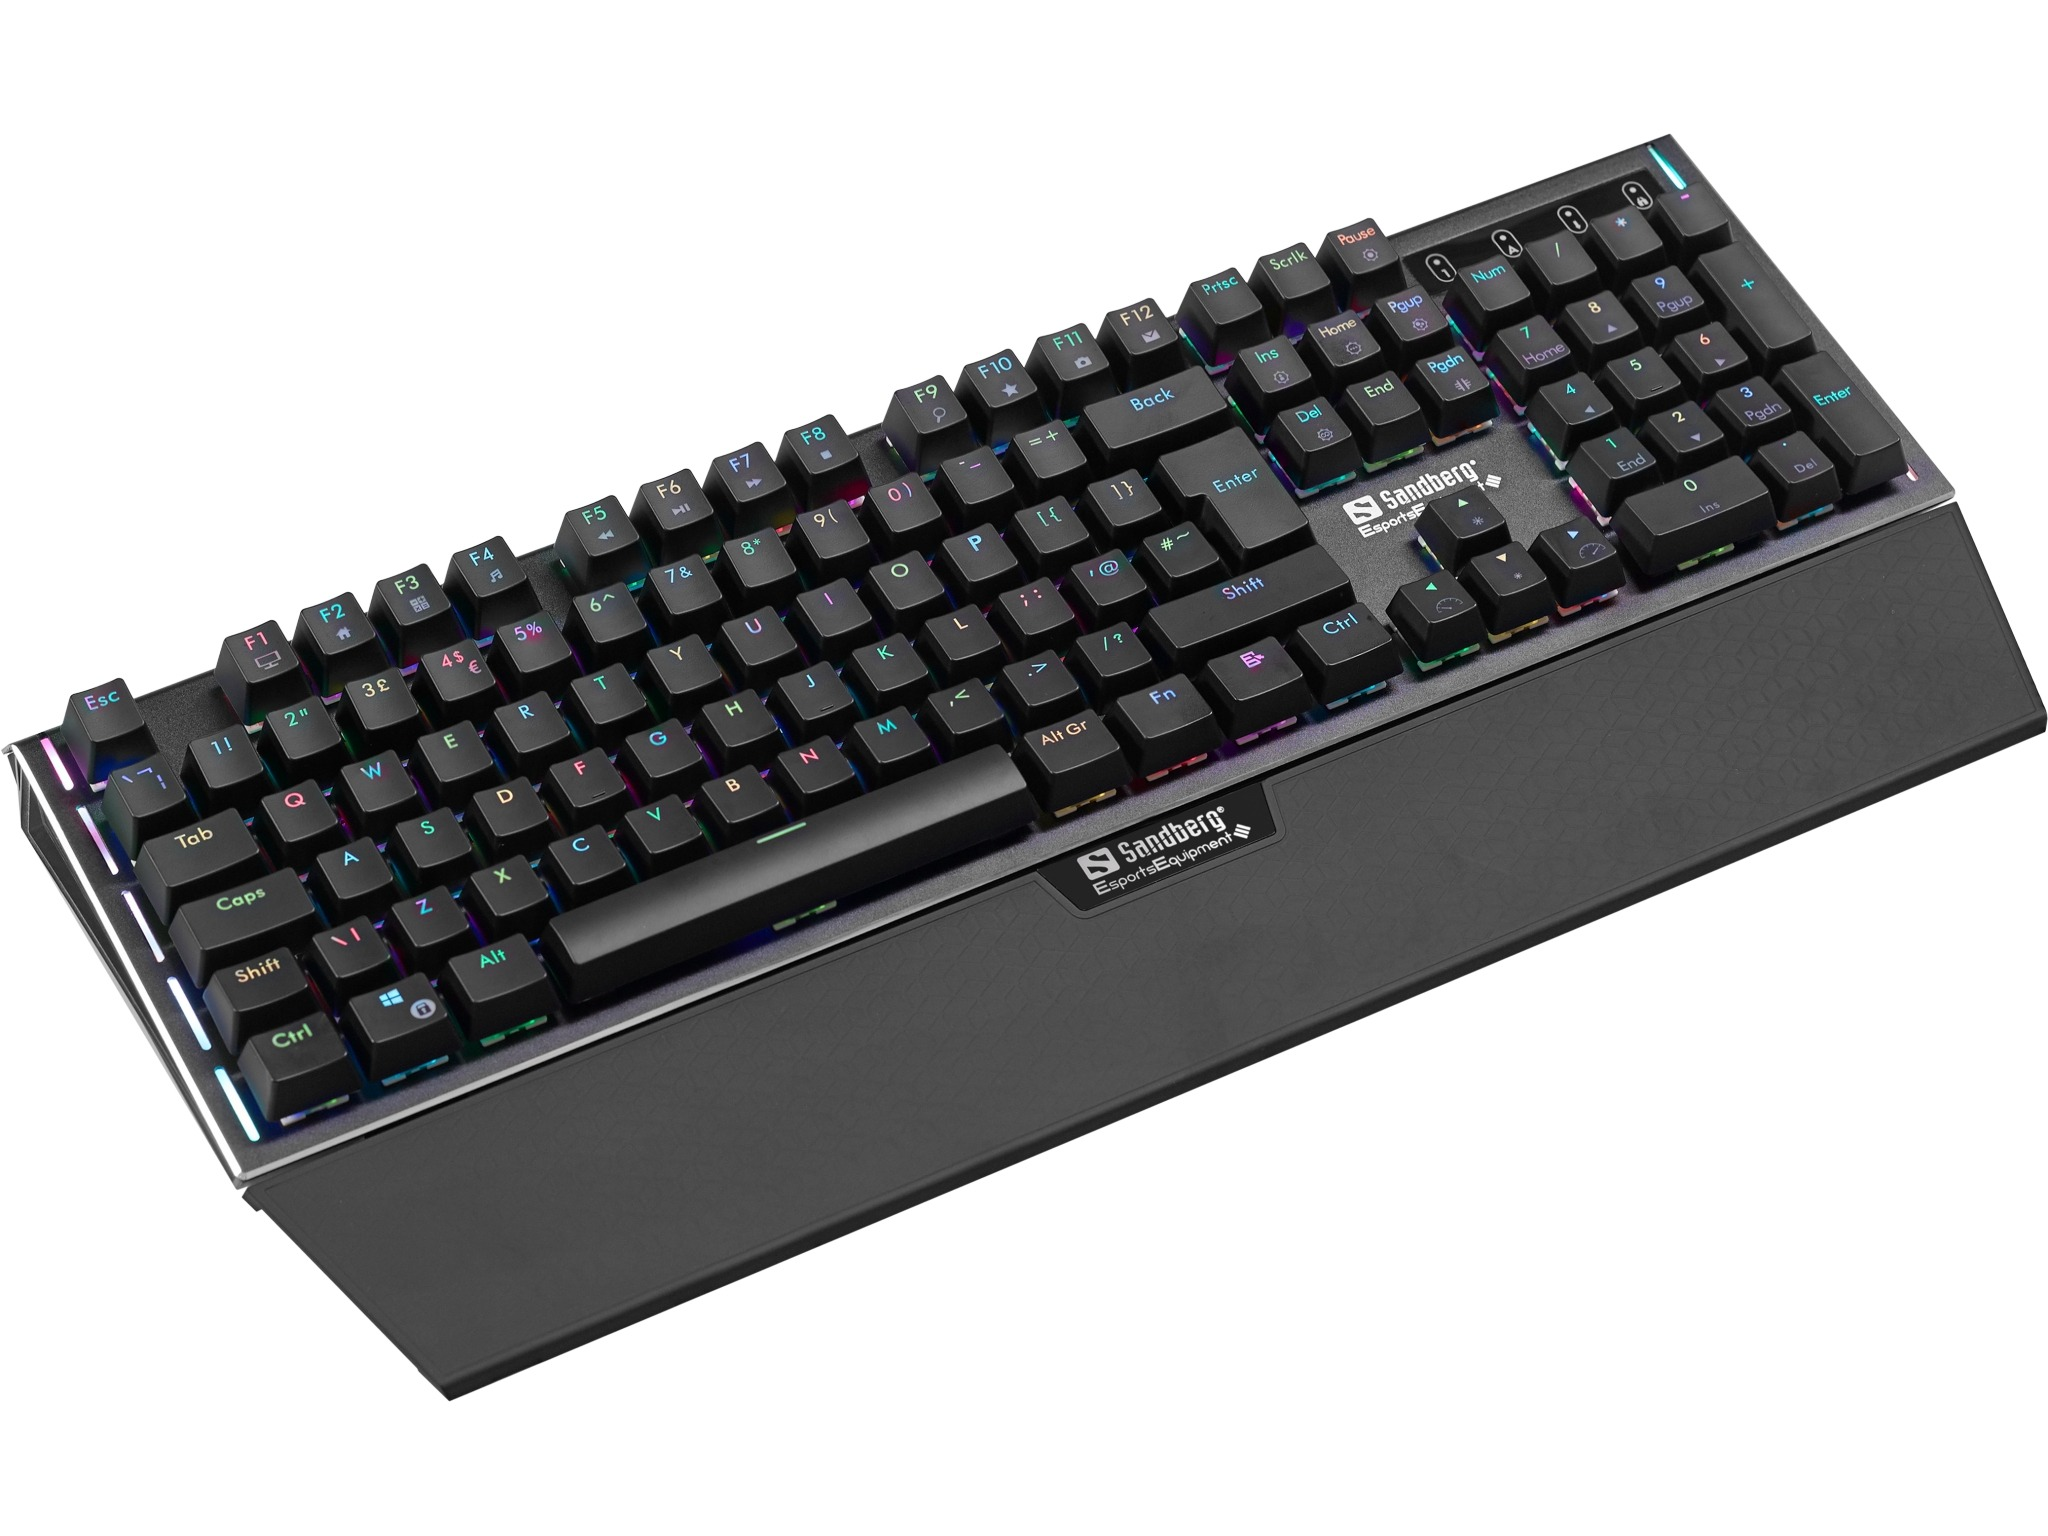keyboard: (0, 124, 2048, 1415)
